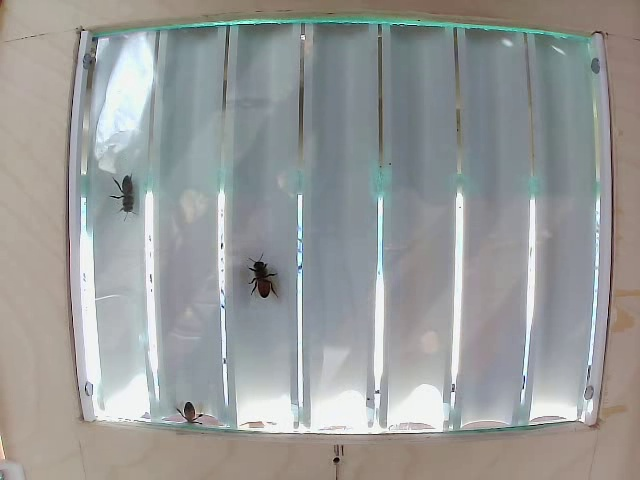bee: (243, 254, 283, 307), (110, 175, 141, 230), (176, 399, 200, 427)
